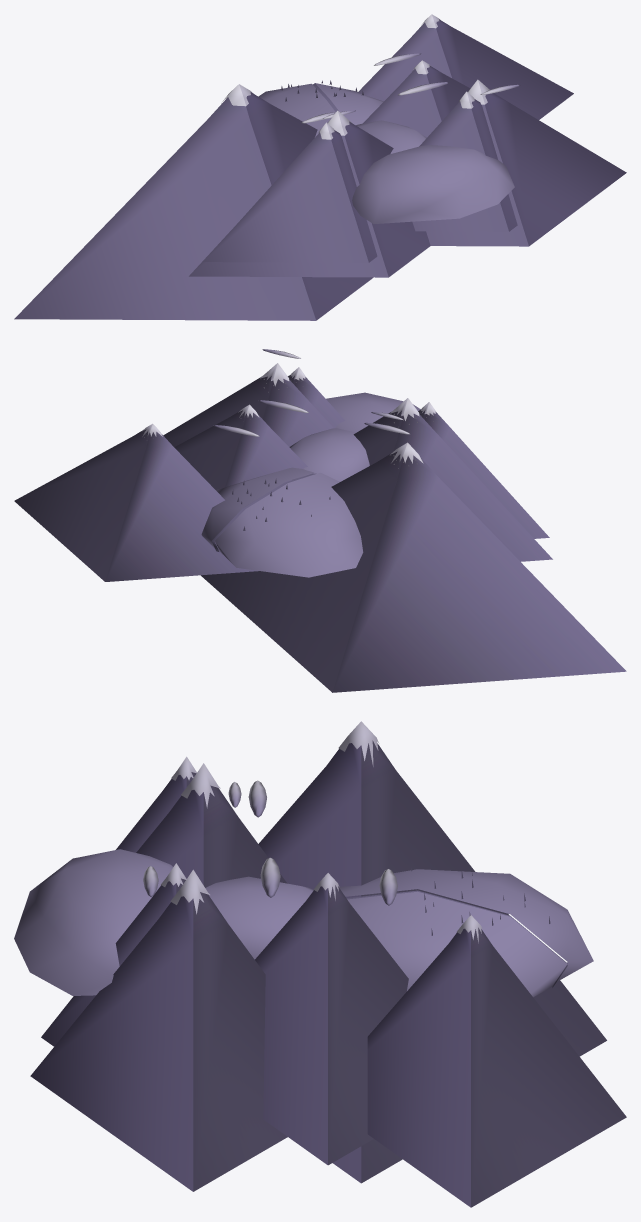
Rendered from nightart.fbx.
3 renders of one model, top to bottom at view 1: azimuth 30°, elevation 25°; view 2: azimuth 150°, elevation 25°; view 3: azimuth 270°, elevation 25°, orthographic. The views are drawn at different scales.
Visible parts, largest first — view 1: Cube_002, Cube_000, Cube_004, Cube_001, Cube_008, Cube_003; view 2: Cube_002, Cube_008, Cube_001, Cube_000, Cube_004, Cube_003; view 3: Cube_004, Cube_008, Cube_001, Cube_003, Cube_002, Cube_000.
Part boxes in pixels (x1,y1,x2,y2): Cube_002: (14,84,373,320); Cube_000: (189,110,430,277); Cube_004: (412,79,626,246); Cube_001: (258,80,514,223); Cube_008: (357,14,573,119); Cube_003: (362,60,470,137); Cube_002: (201,442,626,692); Cube_008: (14,423,258,581); Cube_001: (201,392,420,577); Cube_000: (353,398,552,561); Cube_004: (163,363,345,447); Cube_003: (174,404,307,506); Cube_004: (30,863,287,1191); Cube_008: (367,915,626,1207); Cube_001: (14,849,593,997); Cube_003: (255,873,408,1165); Cube_002: (258,721,606,1183); Cube_000: (116,756,287,887).
Size of the model in its own units: 2700 by 870 by 1512.
Materials: 2 (2 with a texture image).
